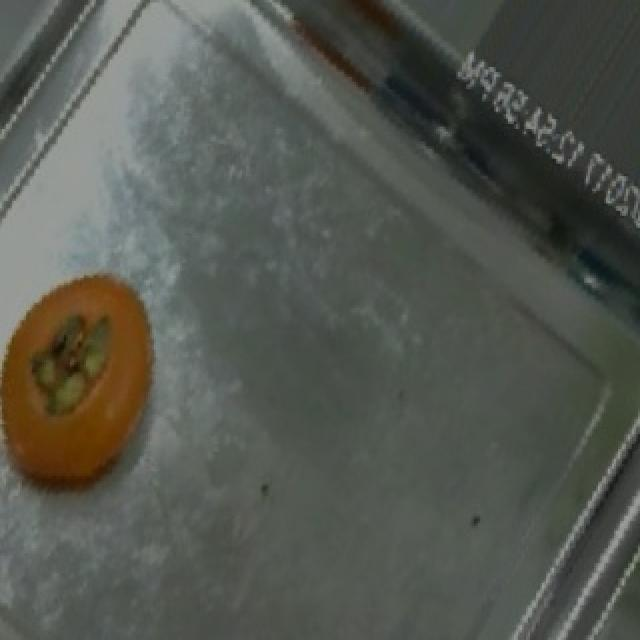Fruit: (2, 251, 182, 511)
